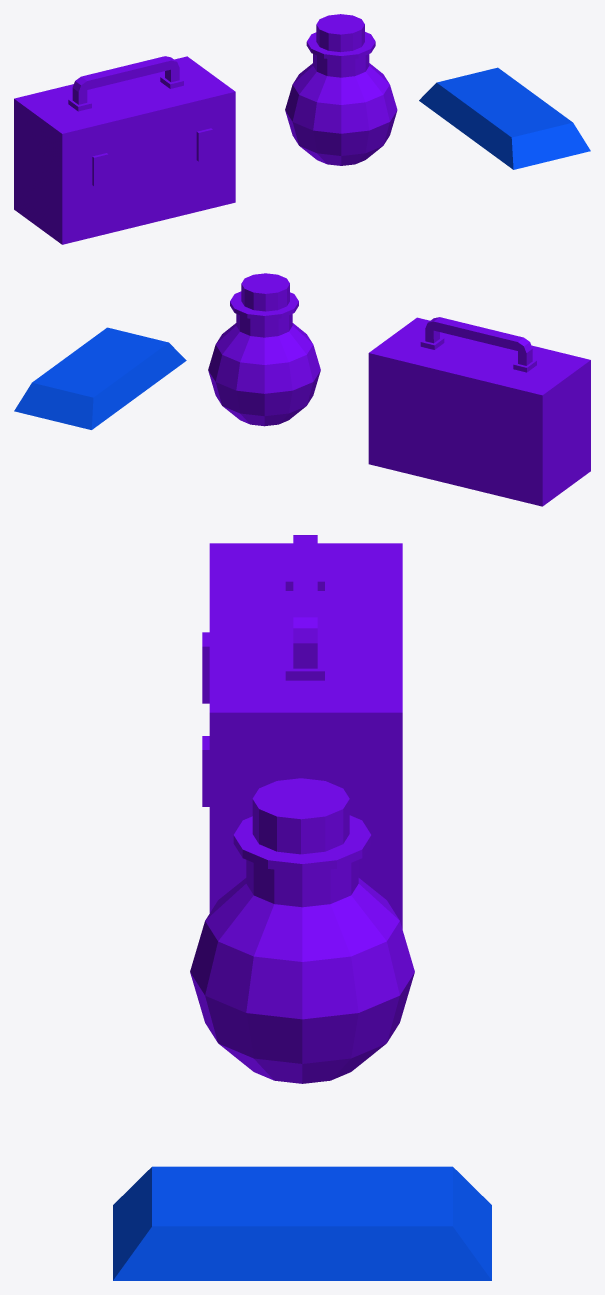
3 renders of one model, top to bottom at view 1: azimuth 30°, elevation 25°; view 2: azimuth 150°, elevation 25°; view 3: azimuth 270°, elevation 25°, orthographic. The views are drawn at different scales.
Parts seen in each view (by area): view 1: 1, 2, 3; view 2: 1, 2, 3; view 3: 1, 2, 3.
Boxes of the visible parts, <box> form: 1: <box>14,56,235,244</box>; 2: <box>285,14,397,165</box>; 3: <box>419,67,590,169</box>; 1: <box>368,317,590,506</box>; 2: <box>208,273,320,426</box>; 3: <box>14,327,186,429</box>; 1: <box>202,535,402,929</box>; 2: <box>190,778,414,1083</box>; 3: <box>113,1166,491,1280</box>.
Size of the model in its own units: 16.53 by 4.66 by 5.38.
